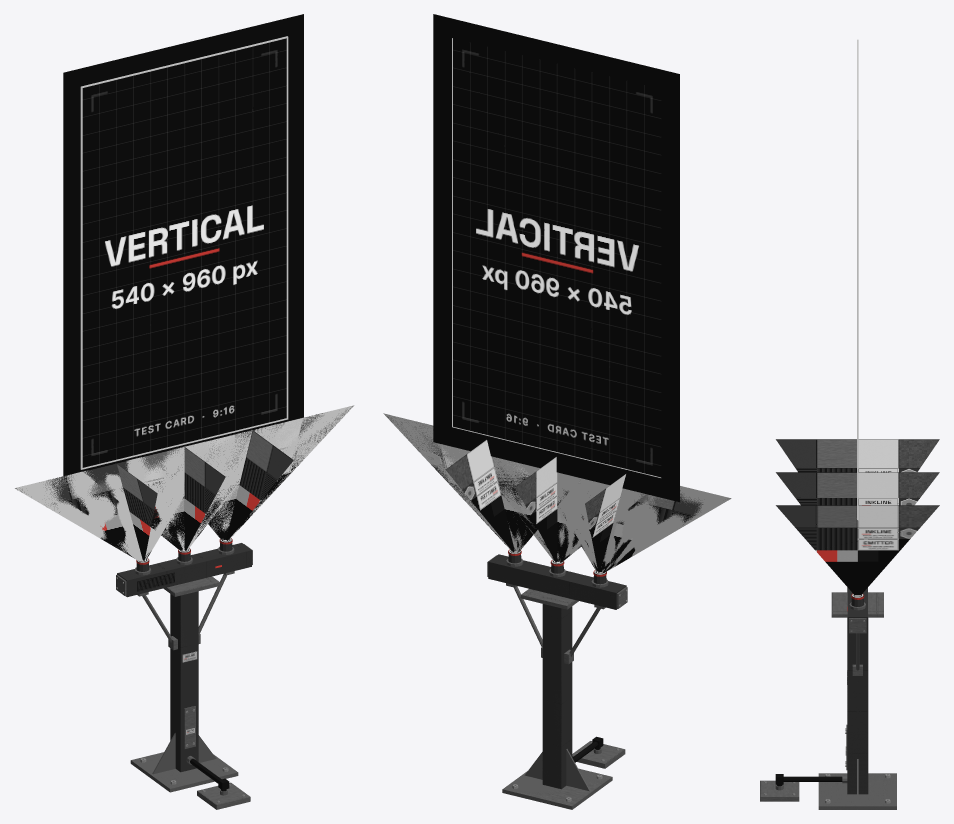
Rendered from display_vertical.glb.
3 renders of one model, left to right at view 1: azimuth 30°, elevation 25°; view 2: azimuth 150°, elevation 25°; view 3: azimuth 270°, elevation 25°, orthographic. The views are drawn at different scales.
Visible parts, largest first — view 1: screen_vertical, beam, farBody, body, glow; view 2: screen_vertical, beam, farBody, body, glow; view 3: beam, body, farBody, glow.
Boxes of the visible parts, x1=… form: screen_vertical: x1=82, y1=38, x2=286, y2=467; beam: x1=15, y1=14, x2=352, y2=561; farBody: x1=14, y1=405, x2=353, y2=792; body: x1=116, y1=538, x2=252, y2=809; glow: x1=80, y1=36, x2=288, y2=568; screen_vertical: x1=453, y1=38, x2=661, y2=477; beam: x1=386, y1=14, x2=703, y2=572; farBody: x1=383, y1=413, x2=730, y2=809; body: x1=487, y1=549, x2=627, y2=809; glow: x1=452, y1=38, x2=660, y2=574; beam: x1=776, y1=439, x2=939, y2=595; body: x1=760, y1=587, x2=896, y2=809; farBody: x1=818, y1=588, x2=896, y2=809; glow: x1=847, y1=39, x2=863, y2=610.
Size of the model in its own units: 3 by 6.11 by 1.38.
5 materials, 5 textured.
